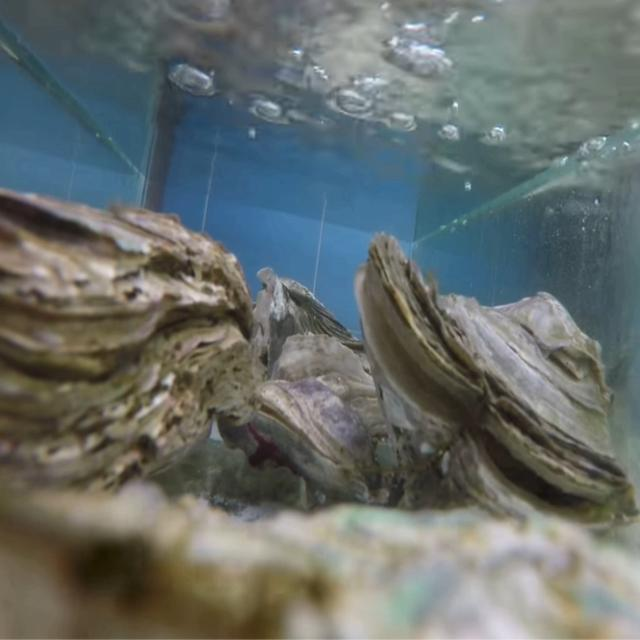Oyster-Closed: (0, 188, 256, 517), (250, 334, 408, 501)
Oyster-Indeterminate: (0, 481, 640, 640)
Oyster-Open: (356, 234, 640, 541)
